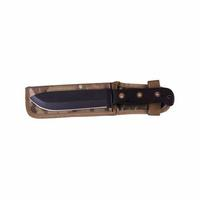knife: (20, 83, 179, 116)
